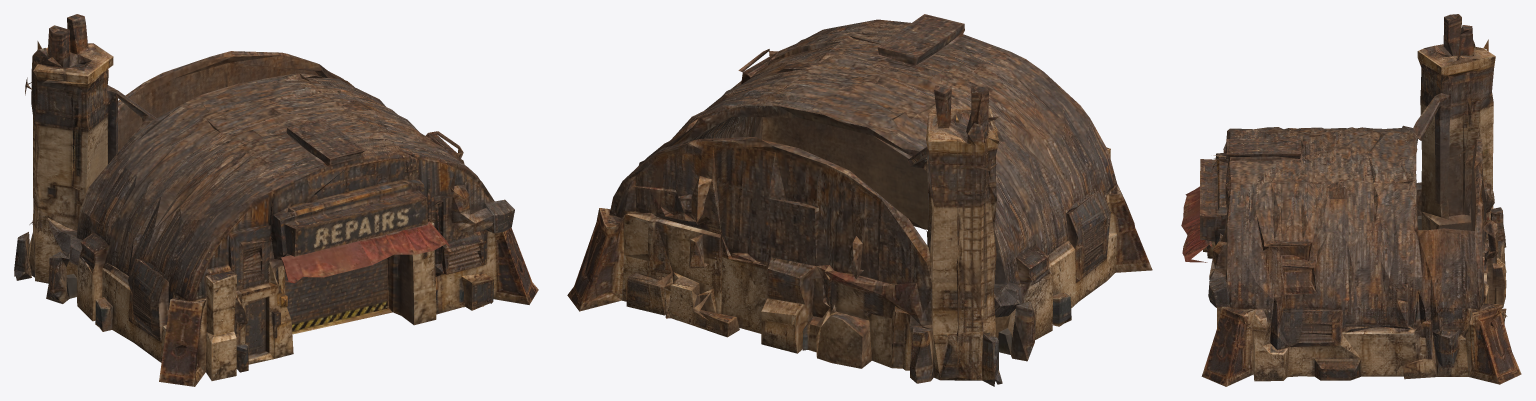
Rendered from repairs.glb.
3 views of the same model, side by side, from view 1: azimuth 30°, elevation 25°; view 2: azimuth 150°, elevation 25°; view 3: azimuth 270°, elevation 25° (orthographic). The views are drawn at different scales.
Size of the model in its own units: 1.91 by 1.2 by 1.68.
Materials: 1 (1 with a texture image).
